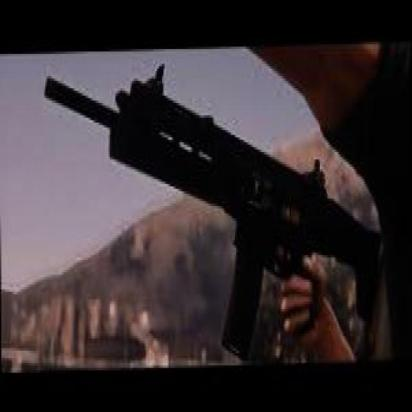Gun: (43, 54, 380, 363)
